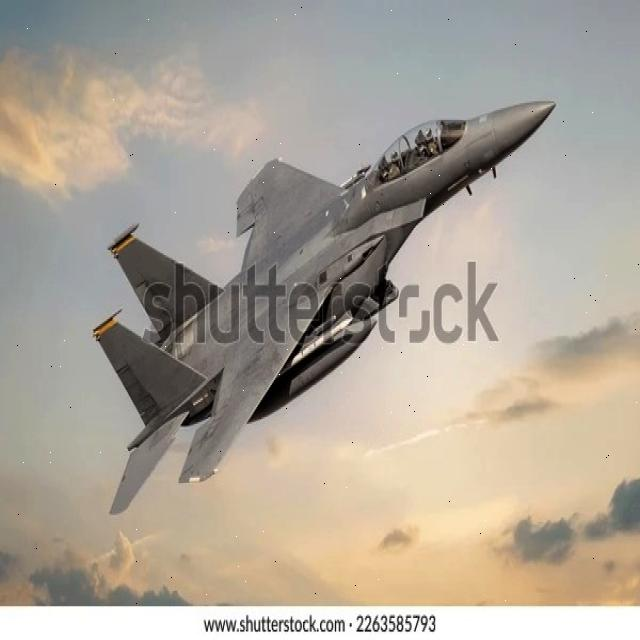F15: (58, 66, 564, 532)
